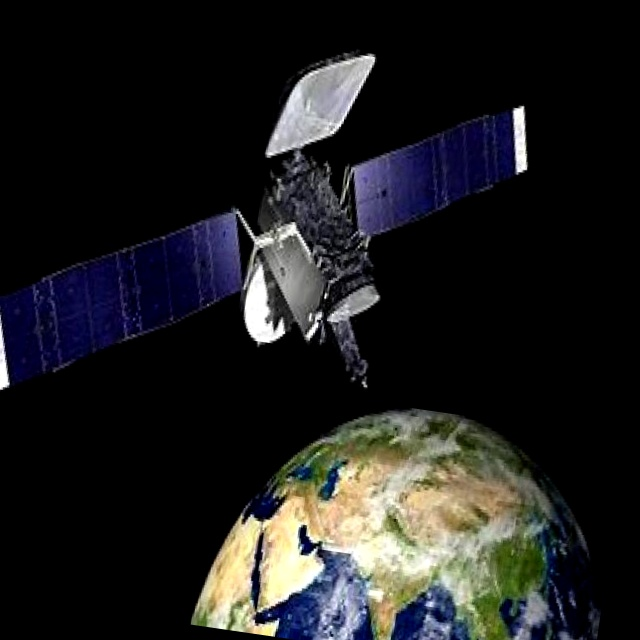satellite: (0, 0, 564, 465)
